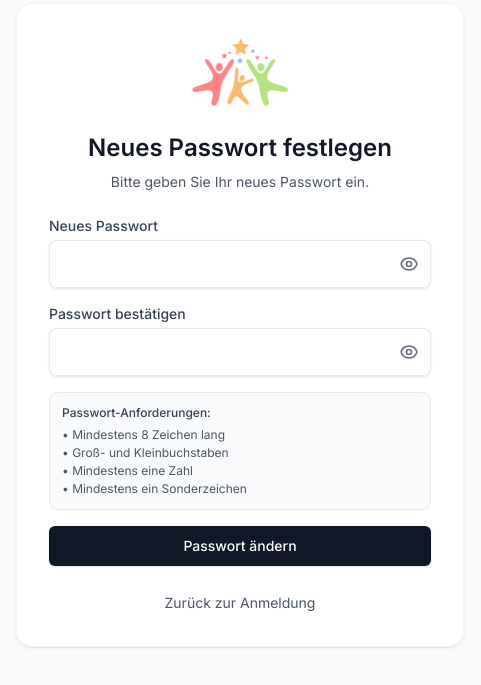
ResetPasswordPage › validates password requires uppercase
Step 1. Type "lowercase1!" into the password field labelled "Neues Passwort" → (240, 264), box left=49, top=240, right=431, bottom=288
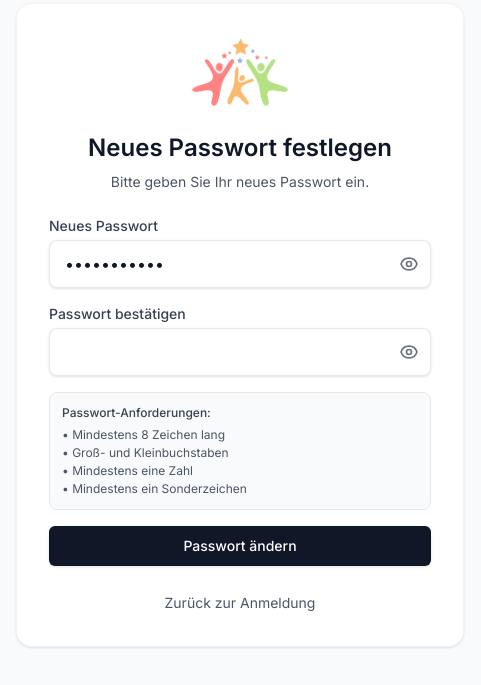
Step 2. Type "lowercase1!" into the password field labelled "Passwort bestätigen" → (240, 352), box left=49, top=328, right=431, bottom=376
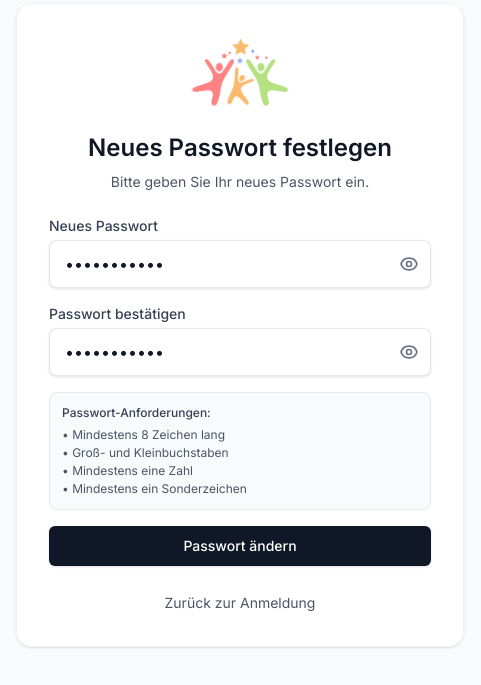
Step 3. Click the button "Passwort ändern" → (240, 546), box left=49, top=526, right=431, bottom=566
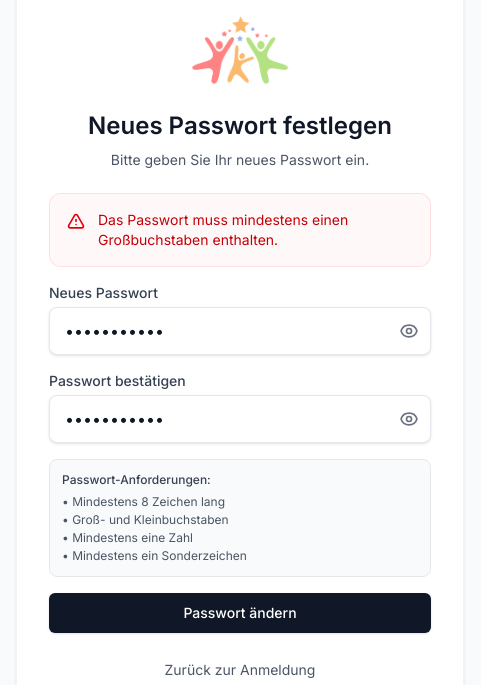
Result: the text "Das Passwort muss mindestens einen Großbuchstaben enthalten." is shown at left=98, top=211, right=348, bottom=248
